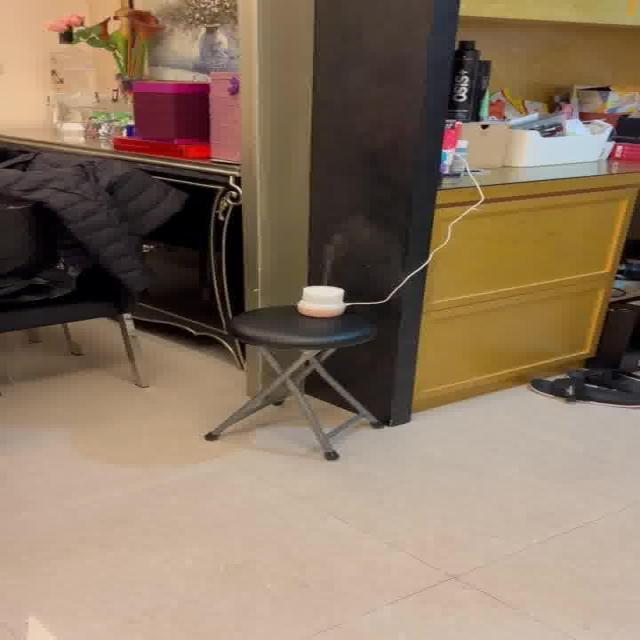fire: (318, 218, 376, 280)
